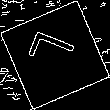L_E: (26, 31, 84, 79)
